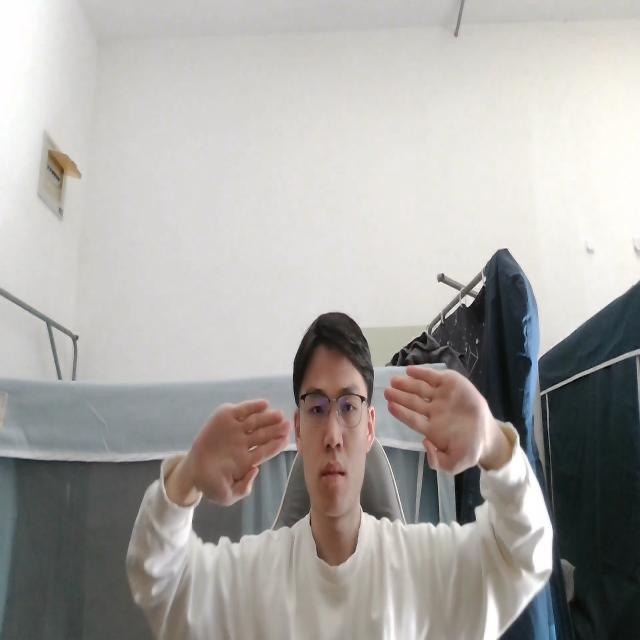five: (384, 362, 490, 477), (188, 396, 294, 508)
